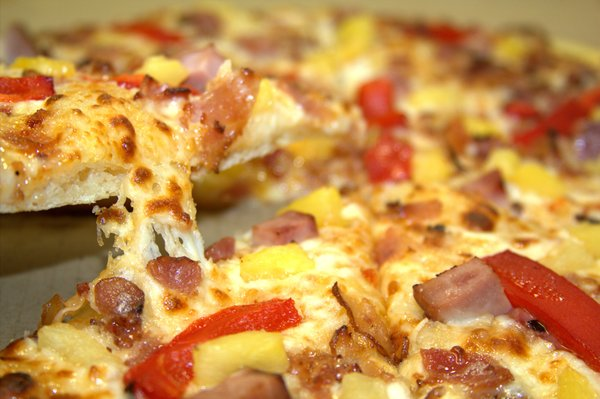sandwich: (0, 5, 599, 393)
